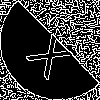X: (25, 25, 81, 81)
